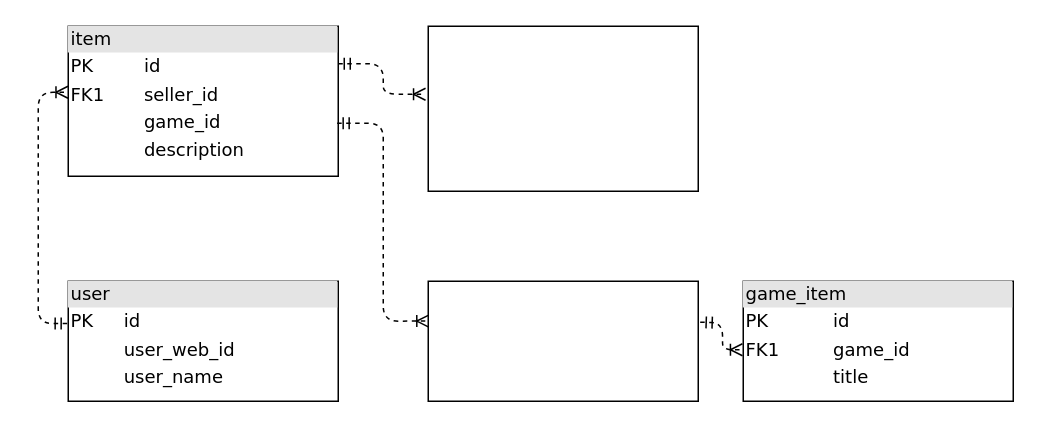
Some shapes in this 1040 by 428 pixel diagram are drawn without their labels. Here are the shapes that lost their labels. From the top down, the centre of each, then its label:
the point at 562,108: item_price PK id FK1 item_id price count date_time_update
the point at 562,340: game PK FK1 id game_web_id title
